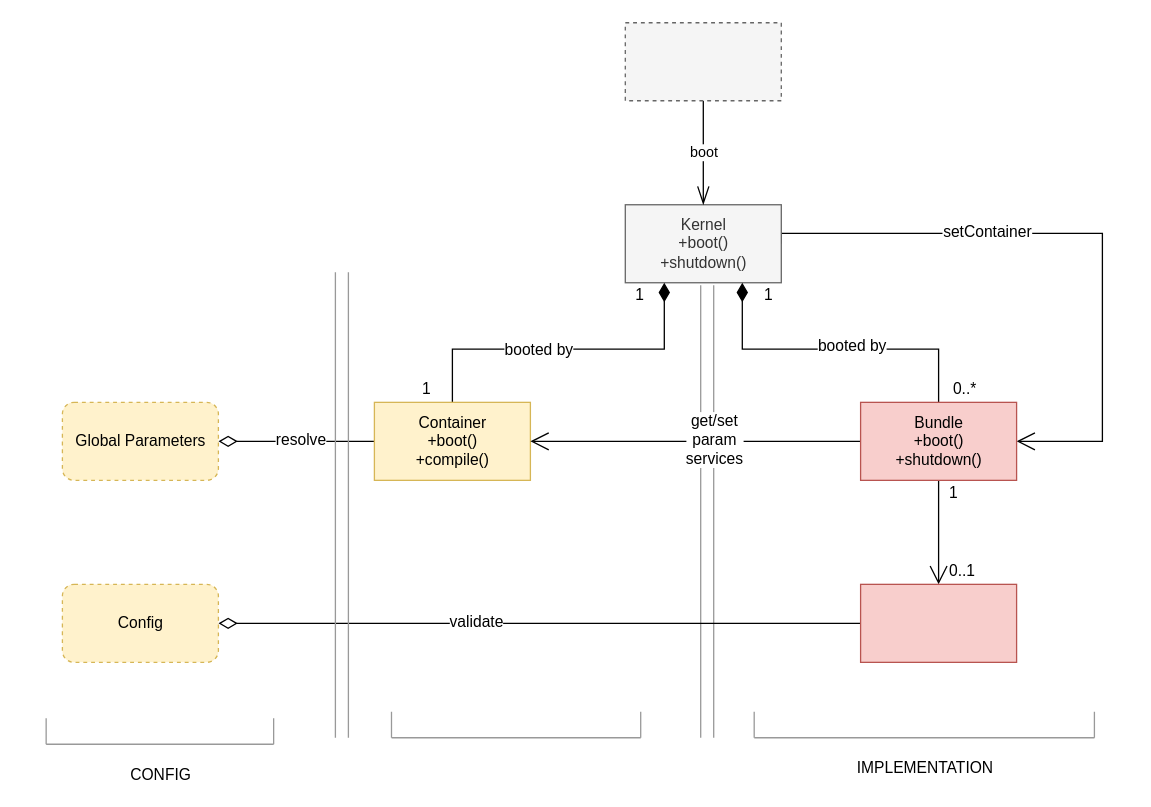
This 1151x807 diagram has some shape labels left out. The shapes that lost their labels are listed below. From the top down, each one's centre as x and y in pixels, then its label:
At (x=702, y=61): "app".
At (x=938, y=622): "Extension".
At (x=515, y=737): "FRAMEWORK".
